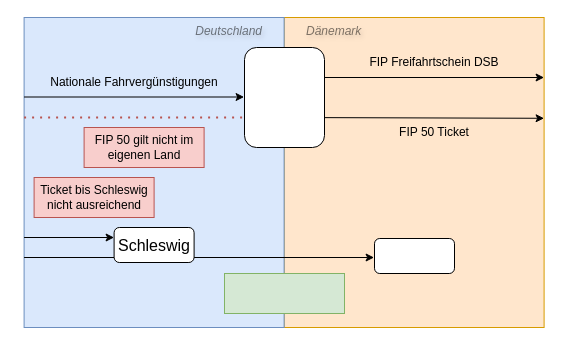
The diagram is 570 pixels wide and 345 high, and some of its shapes have lost their labels. Here are the shapes that lost their labels. From the top down, the centre of each, then its label:
At point 284,97: "Padborg (Gr)".
At point 414,256: "Padborg".
At point 284,293: "Ticket bis Padborg ausreichend".
